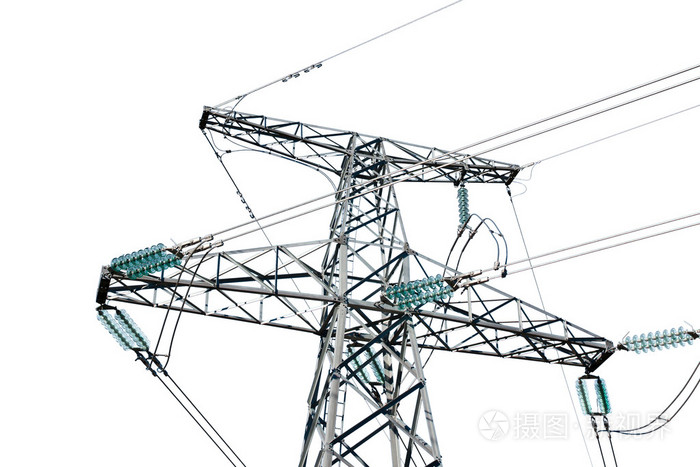insulator: (111, 246, 182, 277), (97, 309, 149, 349), (398, 276, 456, 311), (626, 327, 690, 354), (577, 378, 611, 416), (457, 187, 470, 223)
